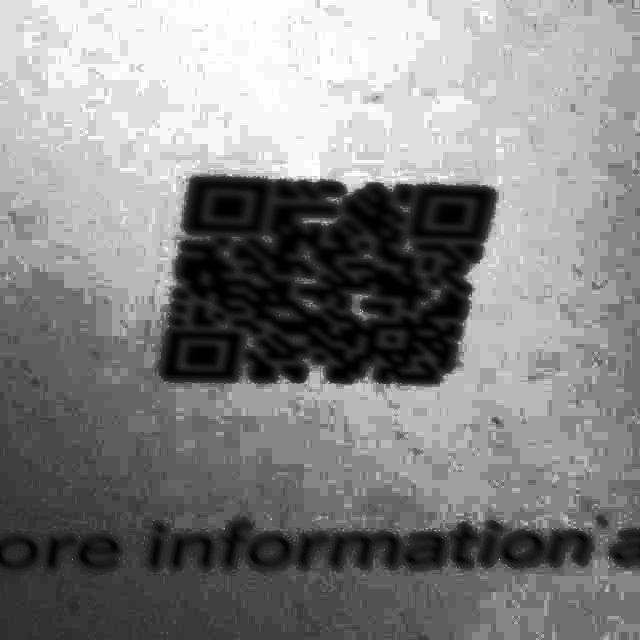qr_code: (136, 127, 515, 419)
